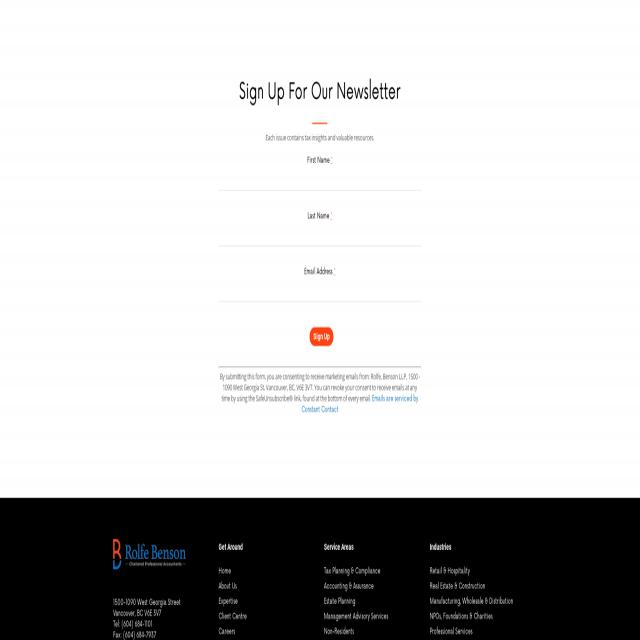button: (113, 539, 186, 569), (310, 327, 334, 346)
field: (219, 221, 421, 246), (219, 277, 421, 302), (219, 166, 421, 190)
